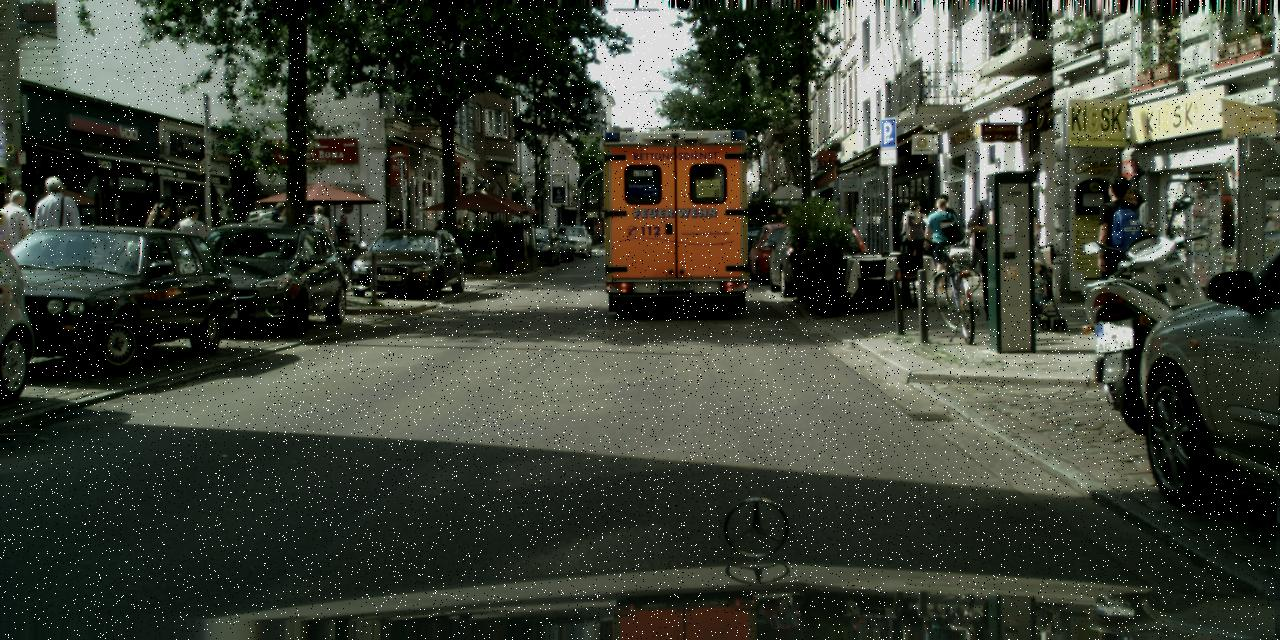ped: (18, 175, 83, 332), (1086, 176, 1150, 331), (968, 183, 1024, 321), (1109, 188, 1159, 310), (0, 190, 40, 330), (1007, 196, 1053, 310), (169, 205, 209, 306), (138, 202, 178, 302), (924, 193, 960, 283), (925, 197, 961, 287), (899, 202, 929, 272), (266, 202, 294, 272), (304, 205, 332, 274), (332, 214, 356, 276), (386, 211, 411, 270), (430, 220, 450, 269), (451, 218, 467, 259)
